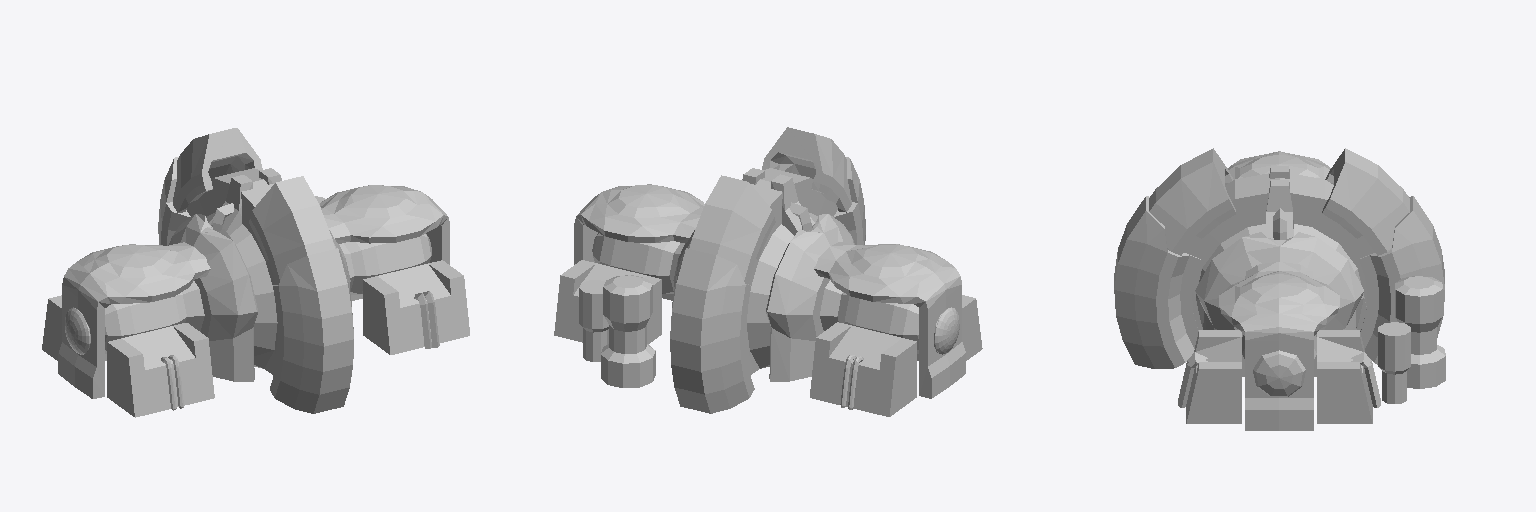
The model's file is void illumitus.obj.
3 renders of one model, left to right at view 1: azimuth 30°, elevation 25°; view 2: azimuth 150°, elevation 25°; view 3: azimuth 270°, elevation 25°, orthographic.
Visible parts, largest first — view 1: Object.1; view 2: Object.1; view 3: Object.1.
Boxes of the visible parts, x1=… form: Object.1: x1=42, y1=128, x2=469, y2=417; Object.1: x1=554, y1=127, x2=982, y2=416; Object.1: x1=1114, y1=148, x2=1445, y2=430.
Bounding box in the file's own units: 69.75 × 36.38 × 53.95.